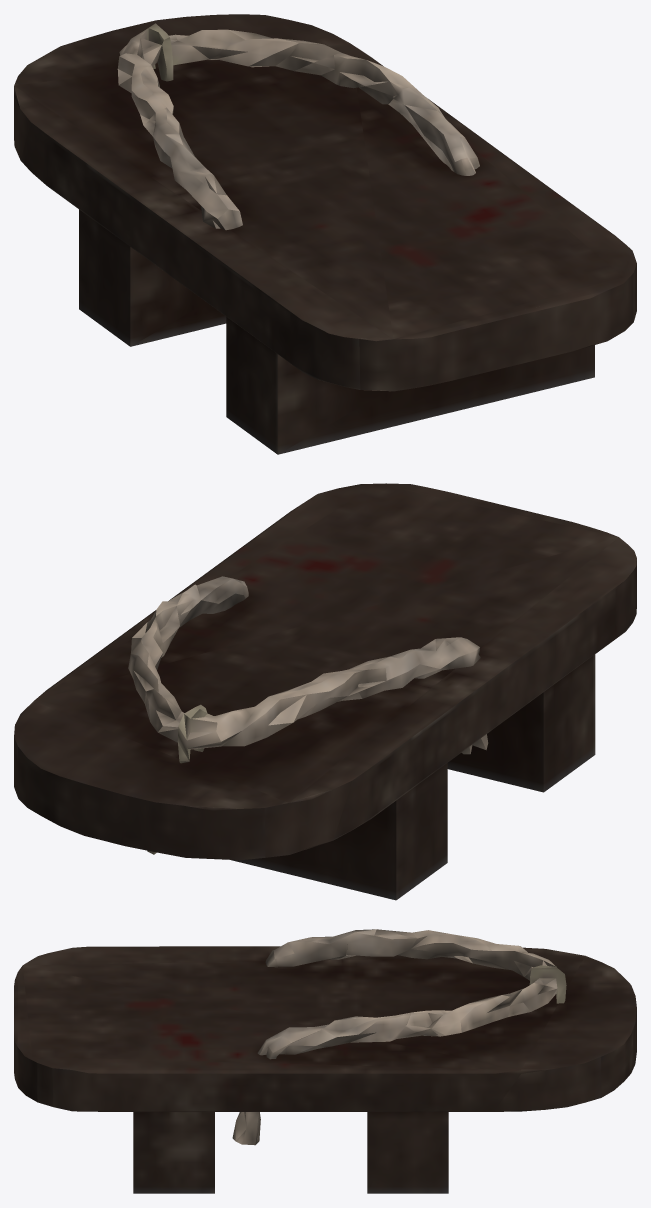
The model's file is sandals.glb.
The picture shows the model from 3 angles, top to bottom: view 1: azimuth 30°, elevation 25°; view 2: azimuth 150°, elevation 25°; view 3: azimuth 270°, elevation 25°; orthographic projection. The views are drawn at different scales.
Parts seen in each view (by area): view 1: mesh; view 2: mesh; view 3: mesh.
Boxes of the visible parts, x1=… form: mesh: x1=14, y1=14, x2=636, y2=454; mesh: x1=14, y1=483, x2=636, y2=900; mesh: x1=14, y1=929, x2=636, y2=1193.
Bounding box in the file's own units: 0.0796 × 0.048 × 0.1666.
1 material, 1 textured.
